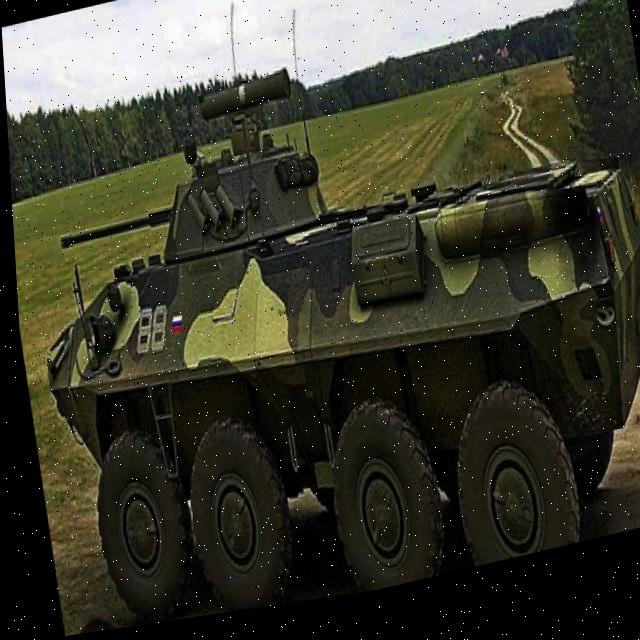MIL_APC: (7, 68, 640, 640)
